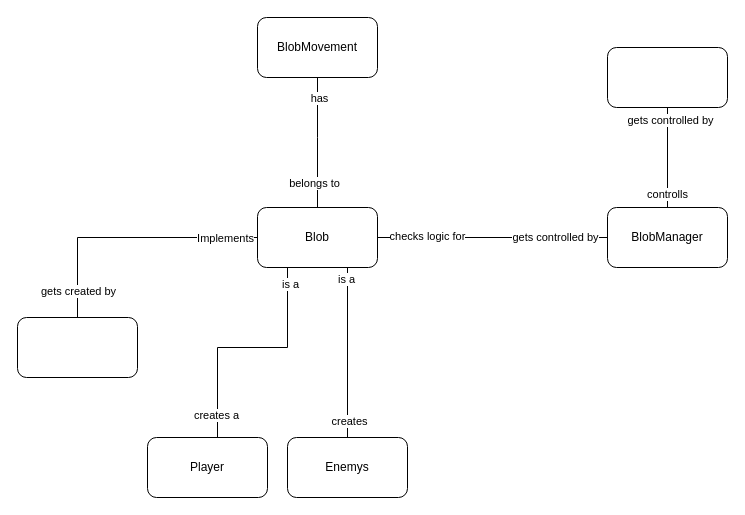
Image size: 745x515. Some labels were removed from this diagram. The shapes that lost their labels are listed below. From the top down, each one's centre as x and y in pixels, then its label:
At point (667, 77): "IO".
At point (77, 347): "BlobBuilder".
